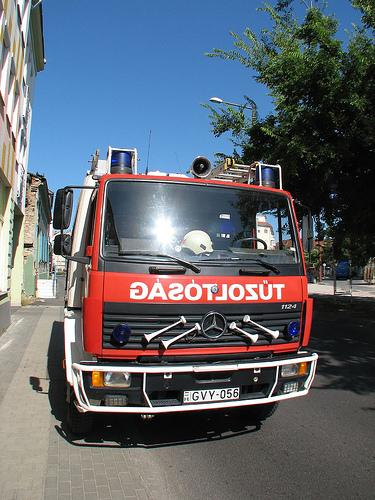truck: (53, 145, 318, 438)
